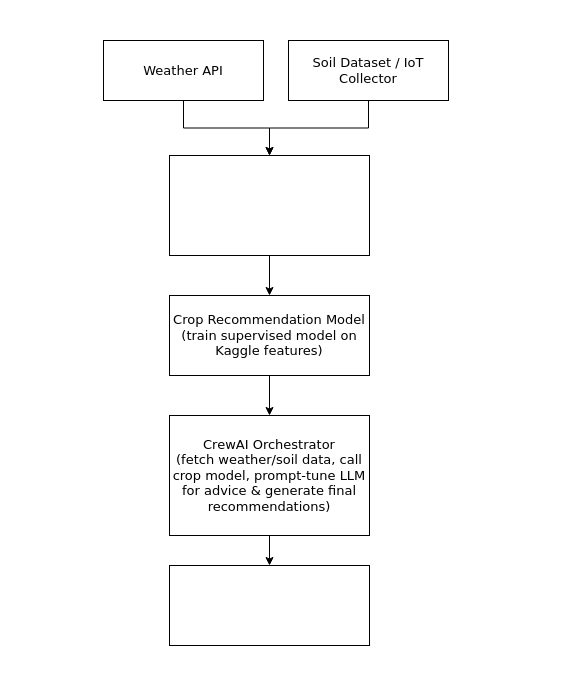
Image size: 576x687. Some labels were removed from this diagram. Each missing label, with the centre of its shape:
Data Preprocessing (normalize, feature-engineer, merge weather & soil features): [269,205]
Streamlit (chat interface, display crop, timing & tips): [269,605]
